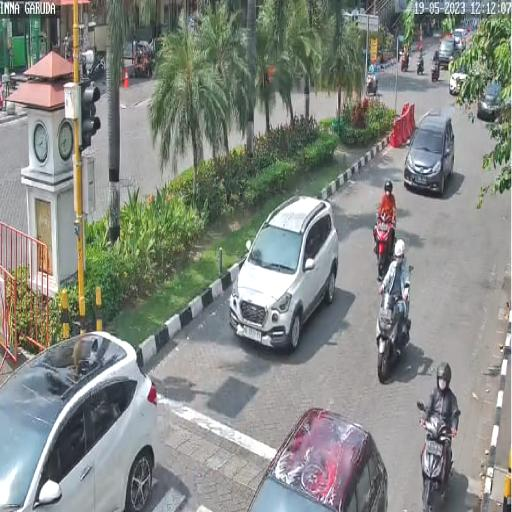mobil: (0, 328, 162, 512), (232, 191, 338, 355), (401, 108, 460, 202)
motor: (416, 394, 470, 512), (371, 279, 420, 393), (368, 201, 401, 282)
